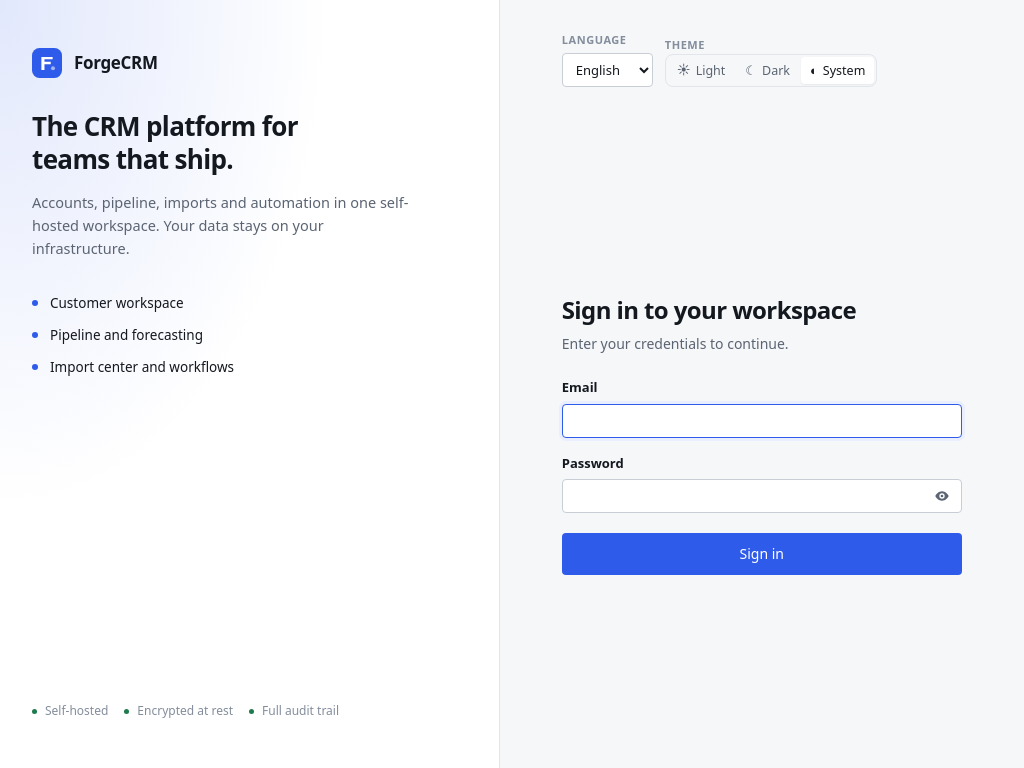
sign-in › surfaces a rejected sign-in without leaving the form
Type "sales@example.com" into the field labelled "Email" at {"x": 762, "y": 421}, box [562,404,962,438]
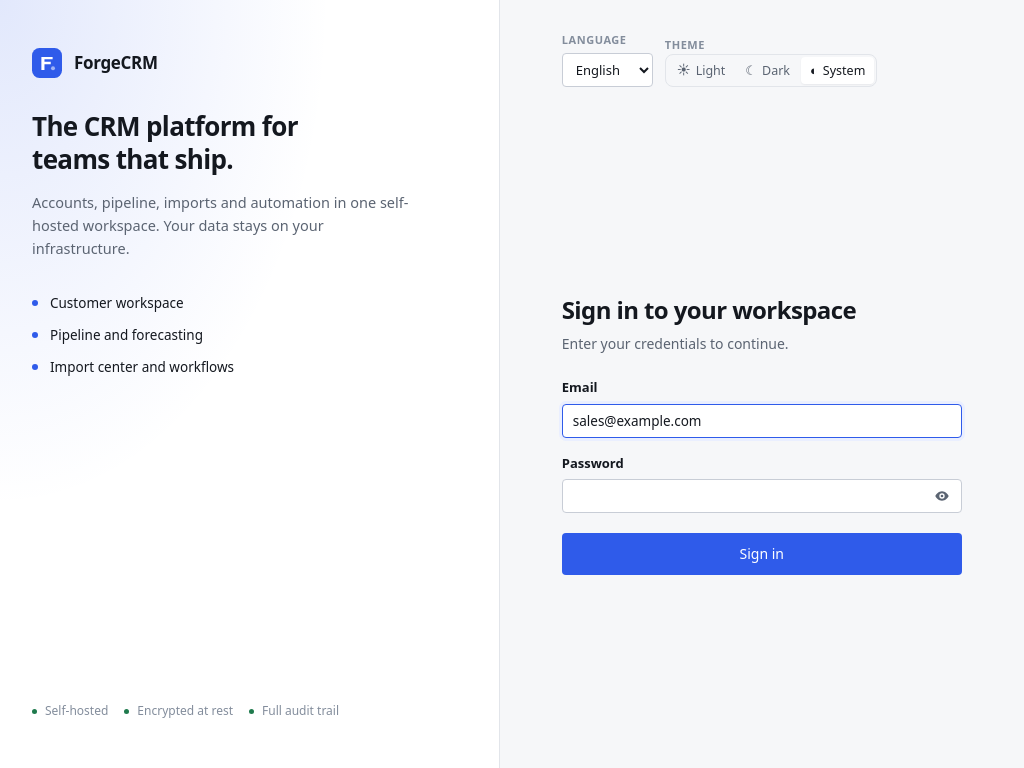
Type "wrong" into the password field labelled "Password" at {"x": 762, "y": 496}, box [562,480,962,514]
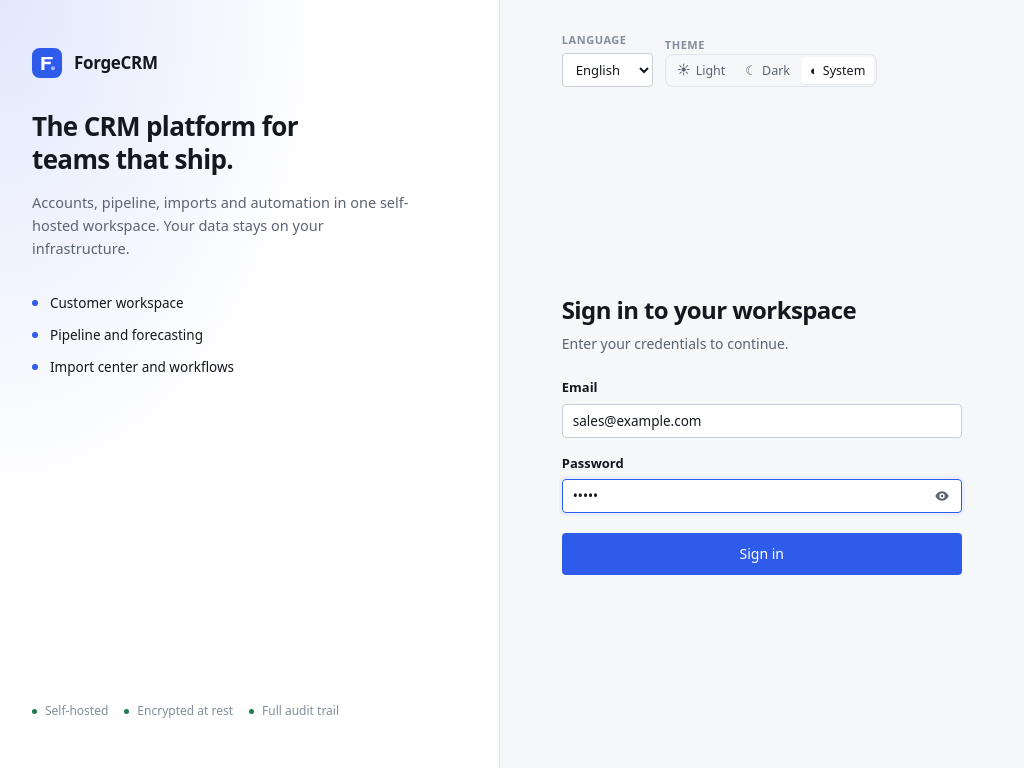
Click the button "Sign in" at {"x": 762, "y": 554}, box [562,534,962,575]
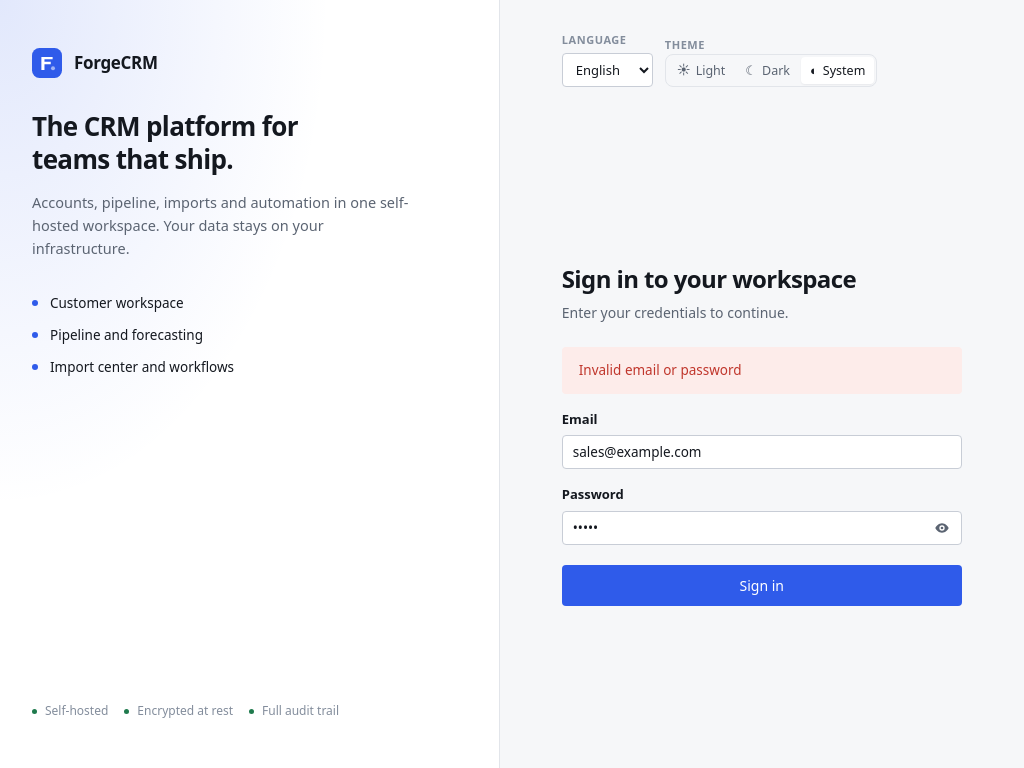
Expected: the button "Sign in" is shown, [562,565,962,606]
Now the text "Invalid email or password" is shown, box [562,347,962,394]
